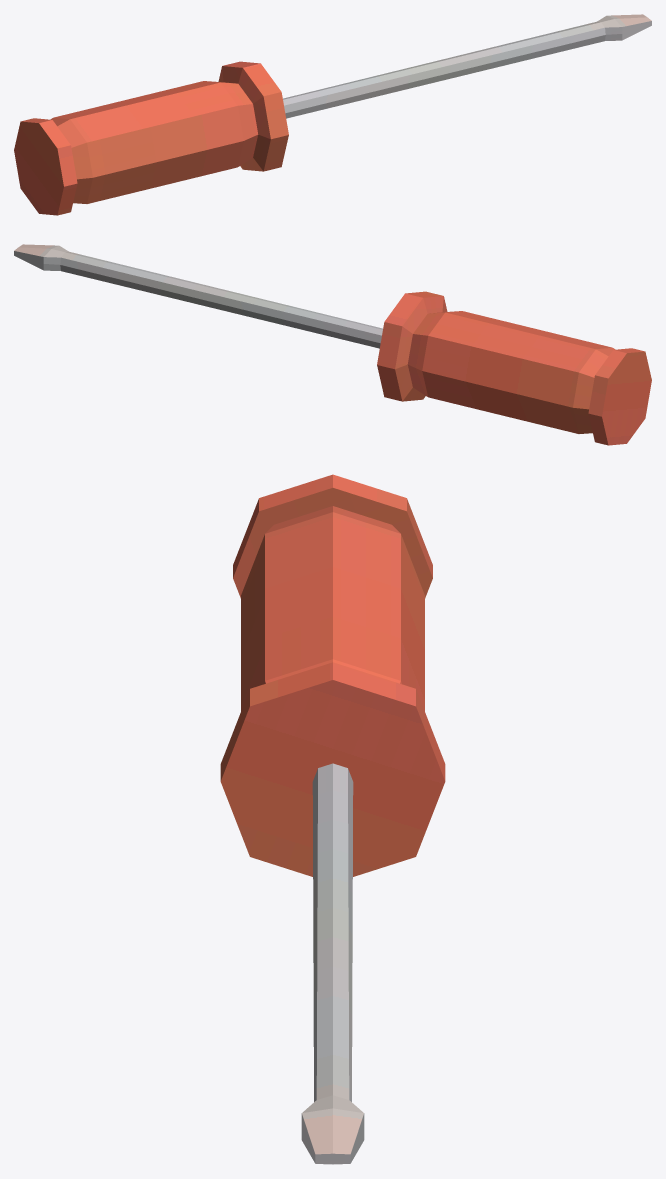
Rendered from Screwdriver.glb.
3 renders of one model, top to bottom at view 1: azimuth 30°, elevation 25°; view 2: azimuth 150°, elevation 25°; view 3: azimuth 270°, elevation 25°, orthographic. The views are drawn at different scales.
Parts seen in each view (by area): view 1: Cube_Cube.002; view 2: Cube_Cube.002; view 3: Cube_Cube.002.
Part boxes in pixels (box(x1,y1,x2,y2)): Cube_Cube.002: box(14, 14, 651, 215); Cube_Cube.002: box(14, 244, 651, 445); Cube_Cube.002: box(220, 474, 445, 1164).
Bounding box in the file's own units: 3.17 × 0.5071 × 0.5071.
1 material, 1 textured.
